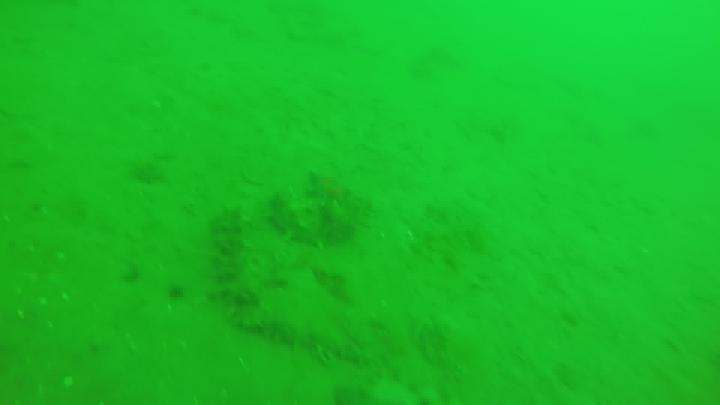holothurian: (239, 314, 364, 368), (216, 204, 267, 301), (266, 188, 329, 245)
